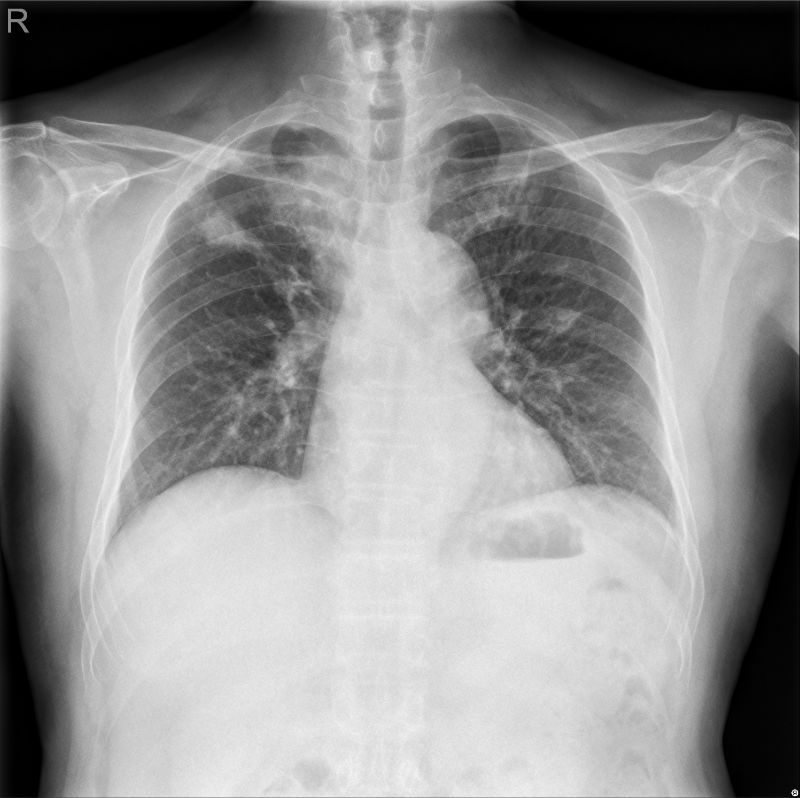Tuberculosis (TB): (198, 153, 336, 305), (465, 157, 546, 239)
